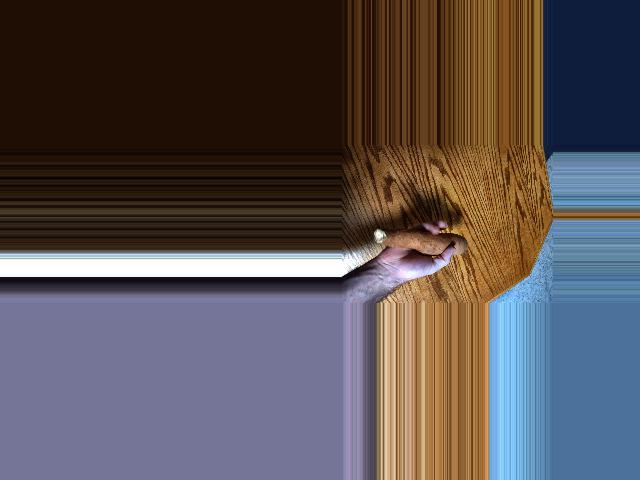sweet_potato: (381, 227, 461, 257)
